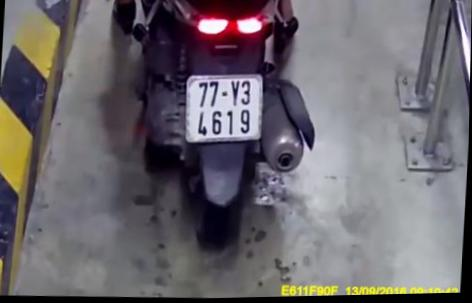LP: (183, 71, 269, 145)
